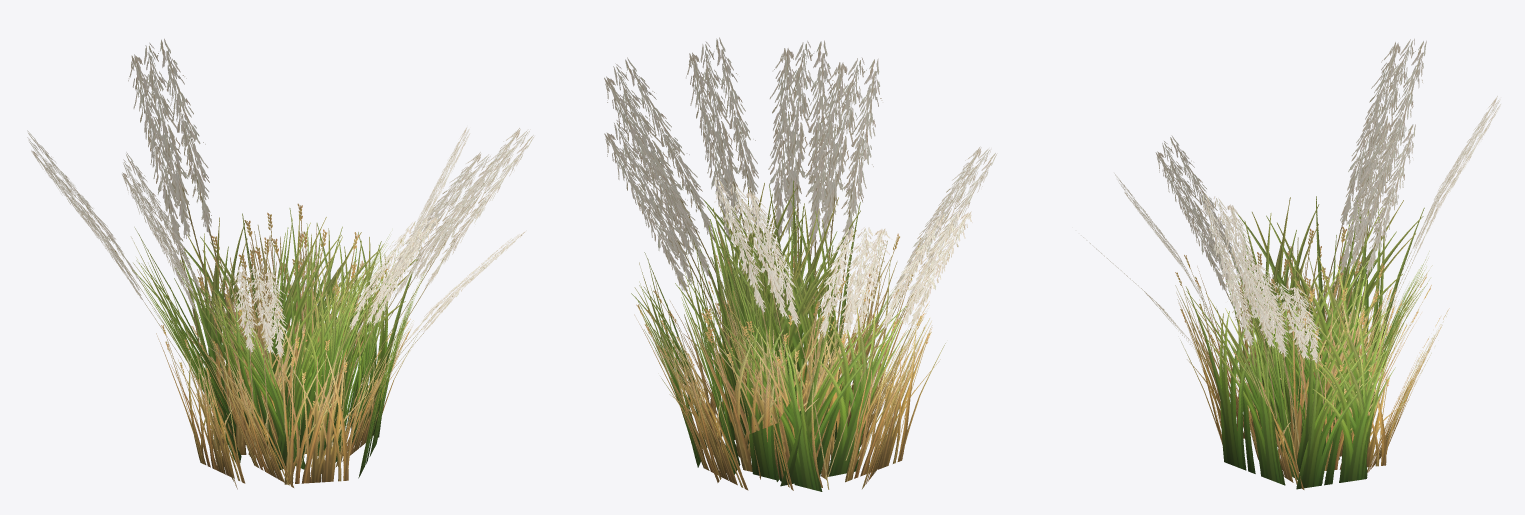
File: Grass_KaansPlume_B.fbx
3 views of the same model, side by side, from view 1: azimuth 30°, elevation 25°; view 2: azimuth 150°, elevation 25°; view 3: azimuth 270°, elevation 25° (orthographic). The views are drawn at different scales.
Visible parts, largest first — view 1: Grass_KaansPlume_B_LOD0; view 2: Grass_KaansPlume_B_LOD0; view 3: Grass_KaansPlume_B_LOD0.
Boxes of the visible parts, x1,y1,x2,y2 form: Grass_KaansPlume_B_LOD0: (27, 38, 534, 489); Grass_KaansPlume_B_LOD0: (604, 37, 997, 491); Grass_KaansPlume_B_LOD0: (1081, 38, 1500, 489).
Size of what is drawn, in the model's own units: 2.97 by 2.27 by 2.76.
